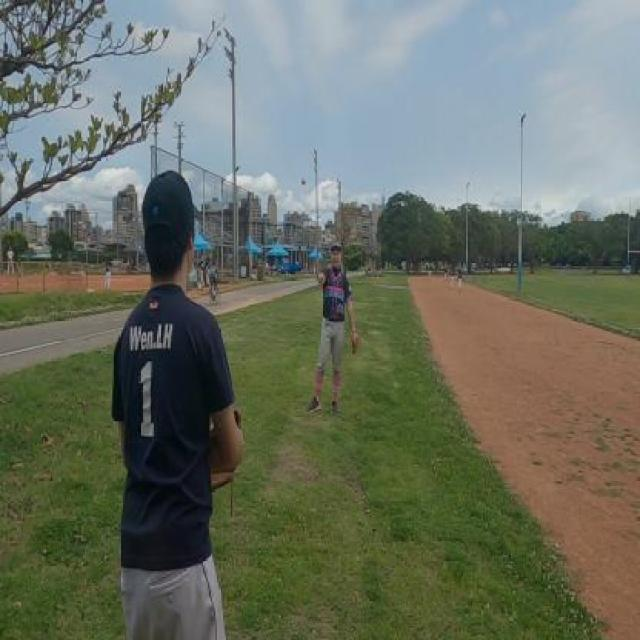baseball: (301, 178, 305, 185)
